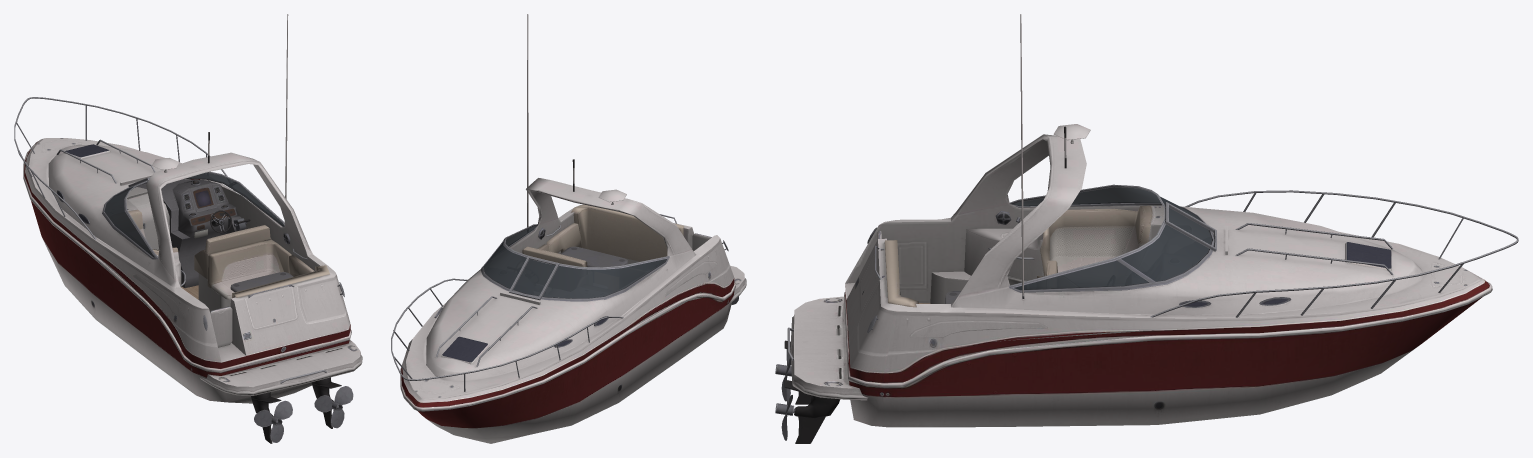
File: Motorboat.glb
3 views of the same model, side by side, from view 1: azimuth 30°, elevation 25°; view 2: azimuth 150°, elevation 25°; view 3: azimuth 270°, elevation 25° (orthographic). The views are drawn at different scales.
Parts seen in each view (by area): view 1: Motorboat__LOD4; view 2: Motorboat__LOD4; view 3: Motorboat__LOD4.
Boxes of the visible parts, left/top/right/bottom form: Motorboat__LOD4: left=14, top=14, right=362, bottom=443; Motorboat__LOD4: left=391, top=14, right=746, bottom=443; Motorboat__LOD4: left=775, top=14, right=1518, bottom=443.
Bounding box in the file's own units: 3.11 × 6.49 × 9.61.
Materials: 2 (2 with a texture image).
